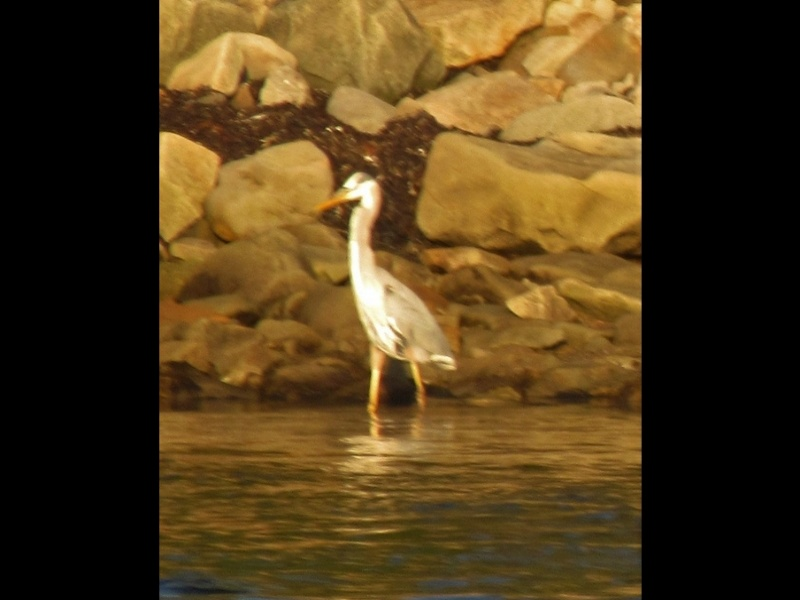heron: (312, 172, 461, 417)
